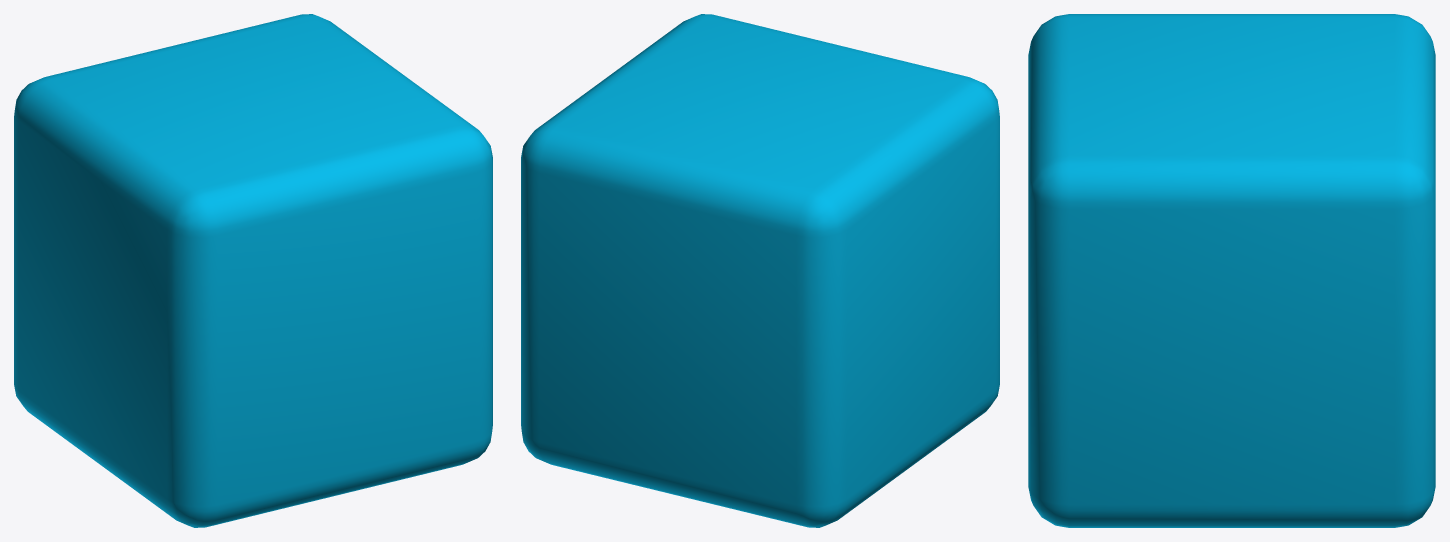
File: roundcube.gltf
3 views of the same model, side by side, from view 1: azimuth 30°, elevation 25°; view 2: azimuth 150°, elevation 25°; view 3: azimuth 270°, elevation 25° (orthographic). The views are drawn at different scales.
Visible parts, largest first — view 1: Roundcube; view 2: Roundcube; view 3: Roundcube.
Part boxes in pixels (left/top/right/bottom): Roundcube: left=14, top=14, right=492, bottom=527; Roundcube: left=521, top=14, right=999, bottom=527; Roundcube: left=1028, top=14, right=1435, bottom=527.
Bounding box in the file's own units: 2 × 2 × 2.
